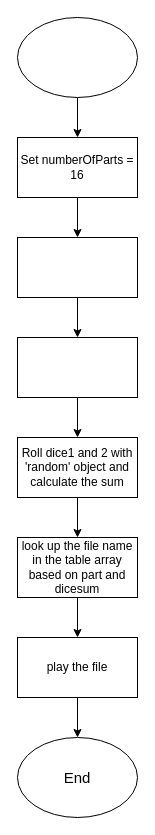
This 155x835 diagram has some shape labels left out. Each missing label, with the box of its shape:
Define table arrays: (16, 236, 138, 298)
For loop through parts 1 - 16: (16, 336, 138, 398)
Start: (16, 16, 138, 98)
